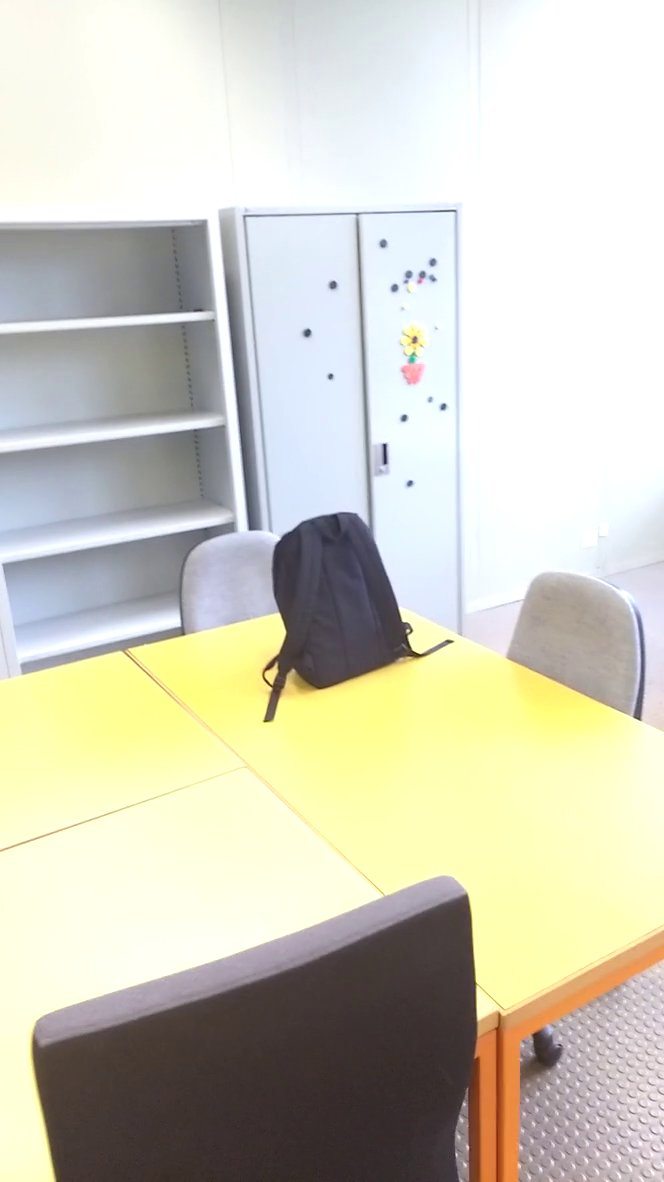bag: (255, 507, 463, 728)
chair: (27, 858, 500, 1182), (498, 567, 660, 759), (174, 524, 315, 645)
